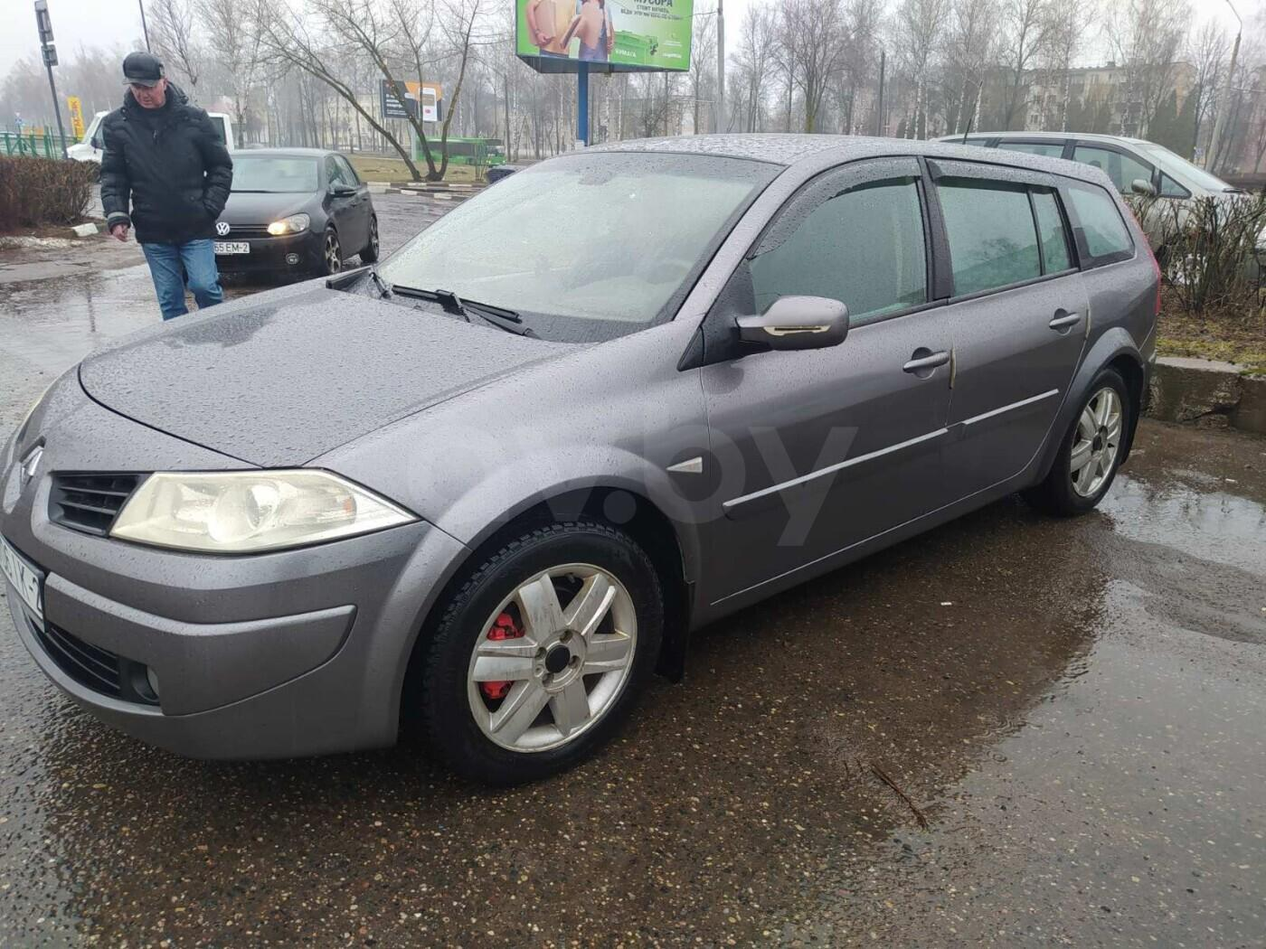Megane_2005-2009: (5, 132, 1182, 786)
